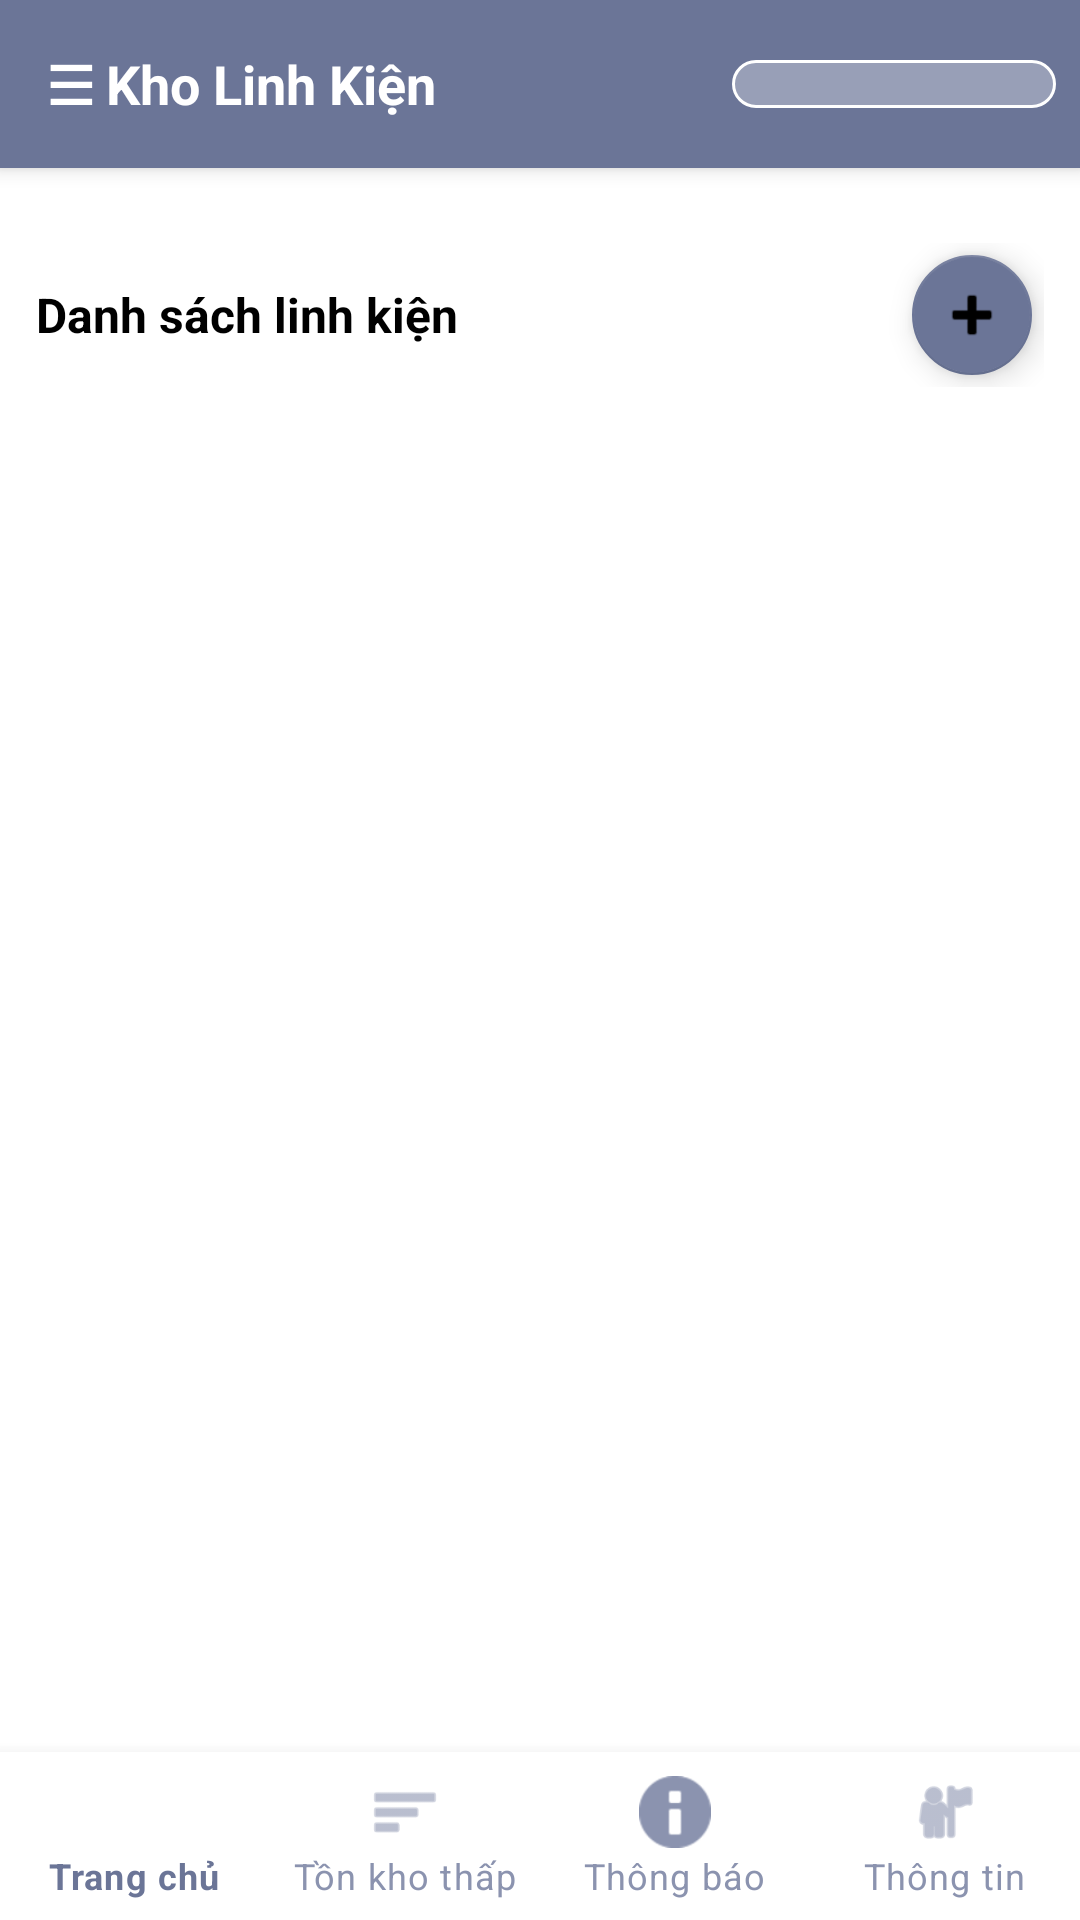

Icon click points for this 1080x1920 phone screenshot, format (x=x, y=y):
add: (x=973, y=315)
